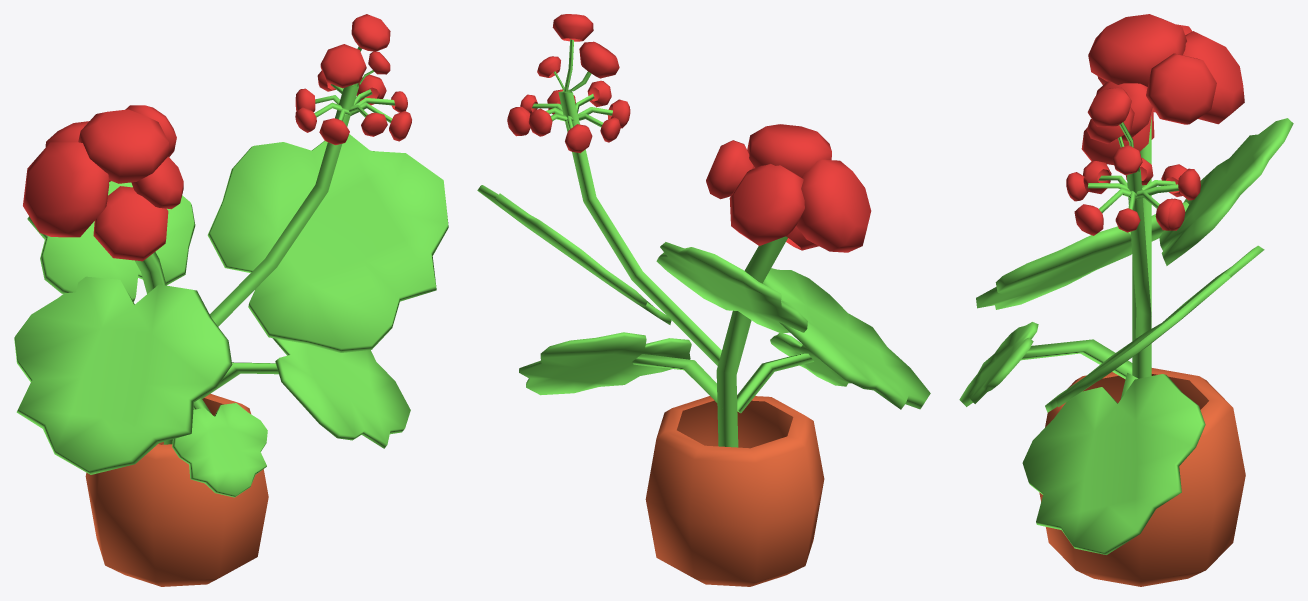
File: Plant.fbx
The picture shows the model from 3 angles, left to right: view 1: azimuth 30°, elevation 25°; view 2: azimuth 150°, elevation 25°; view 3: azimuth 270°, elevation 25°; orthographic projection. The views are drawn at different scales.
Visible parts, largest first — view 1: Cylinder.027; view 2: Cylinder.027; view 3: Cylinder.027.
Boxes of the visible parts, x1,y1,x2,y2 form: Cylinder.027: (14, 14, 448, 586); Cylinder.027: (477, 14, 930, 586); Cylinder.027: (959, 14, 1293, 586).
Bounding box in the file's own units: 30.53 × 34.4 × 18.46.
